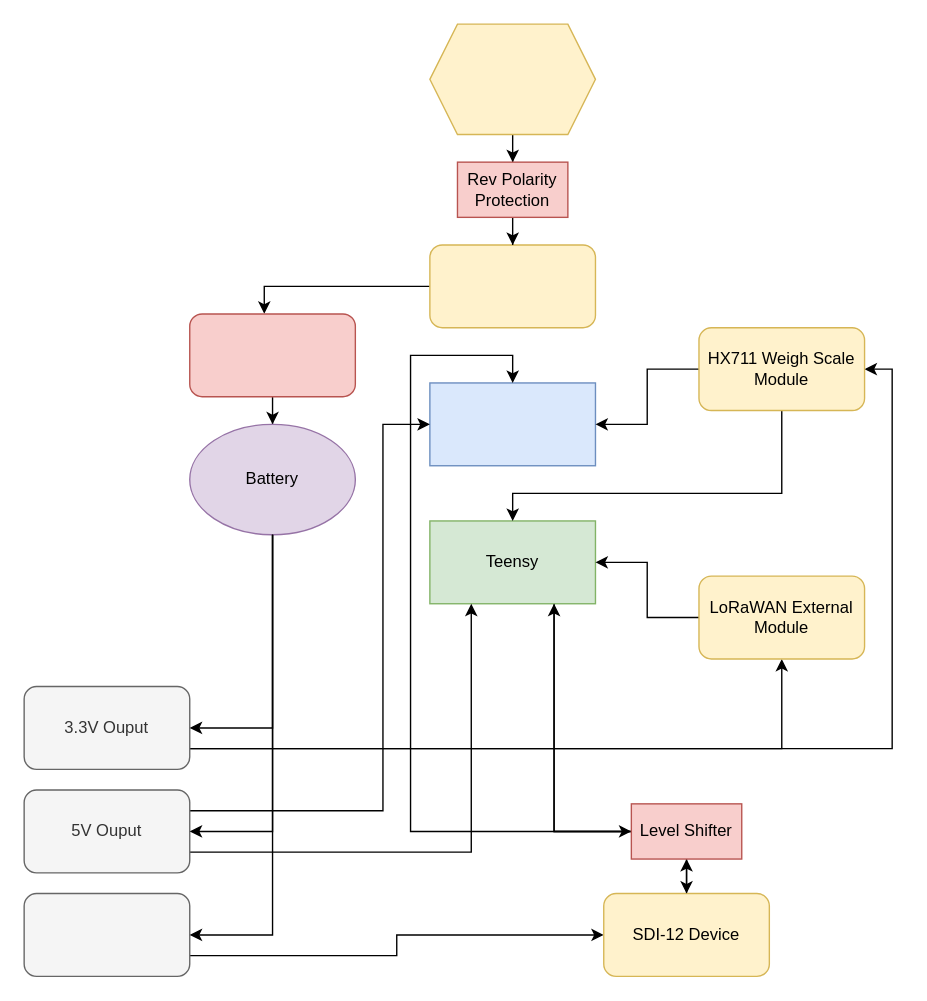
Some shapes in this 927 by 1001 pixel diagram are drawn without their labels. The shapes that lost their labels are listed below. From the top down, each one's box as (x1, y1, x2, y2) in pixels, then its label:
(428, 23, 595, 135): Solar Panel
(428, 244, 595, 328): Solar Charge Controller
(188, 313, 355, 397): Battery Charge Protection
(428, 382, 595, 466): FeatherM0 (LoRaWAN)
(23, 892, 190, 976): 9V Ouput
